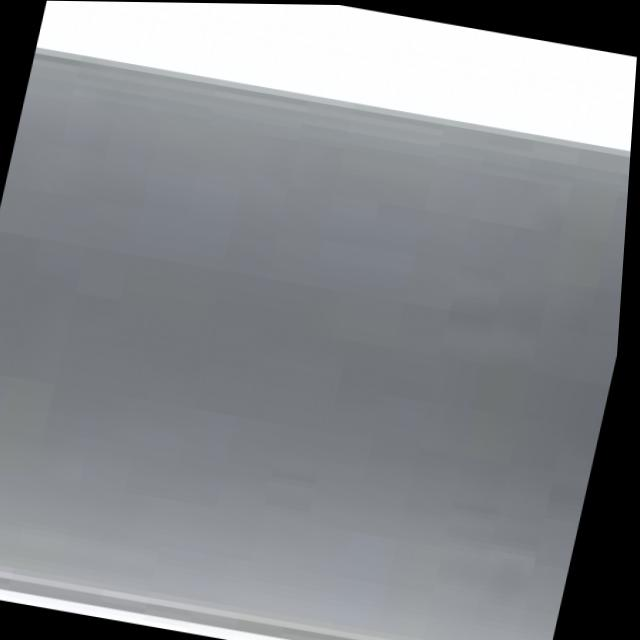metal-plates: (1, 47, 634, 640)
